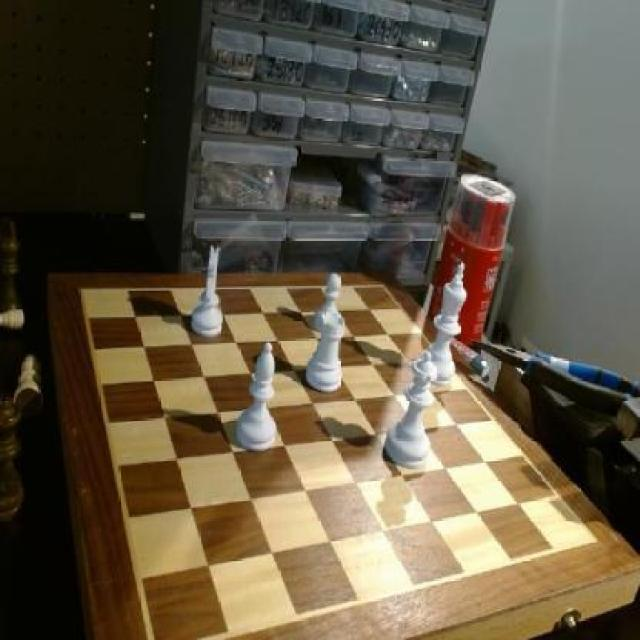black-rook: (234, 341, 281, 454)
white-bishop: (421, 258, 467, 394)
white-king: (189, 240, 227, 345)
white-knight: (311, 271, 348, 342)
white-pawn: (386, 349, 442, 474)
white-queen: (304, 312, 350, 398)
